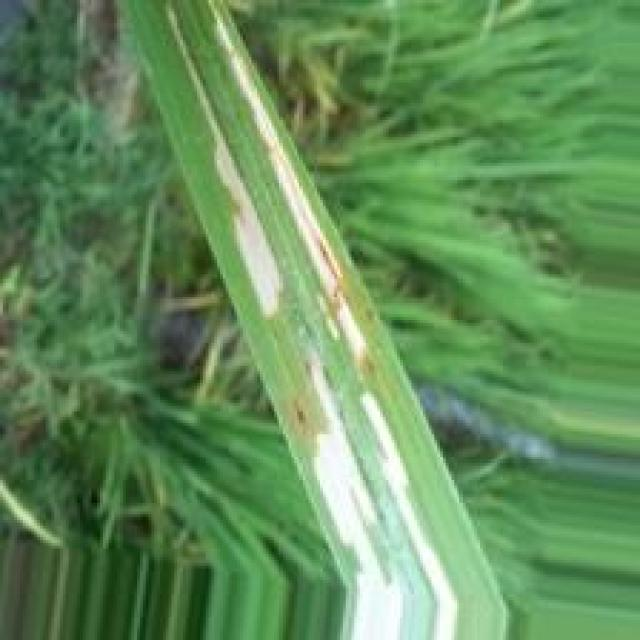Rice_Hispa: (210, 8, 374, 380), (164, 10, 284, 318), (352, 396, 458, 640), (314, 373, 403, 640)
